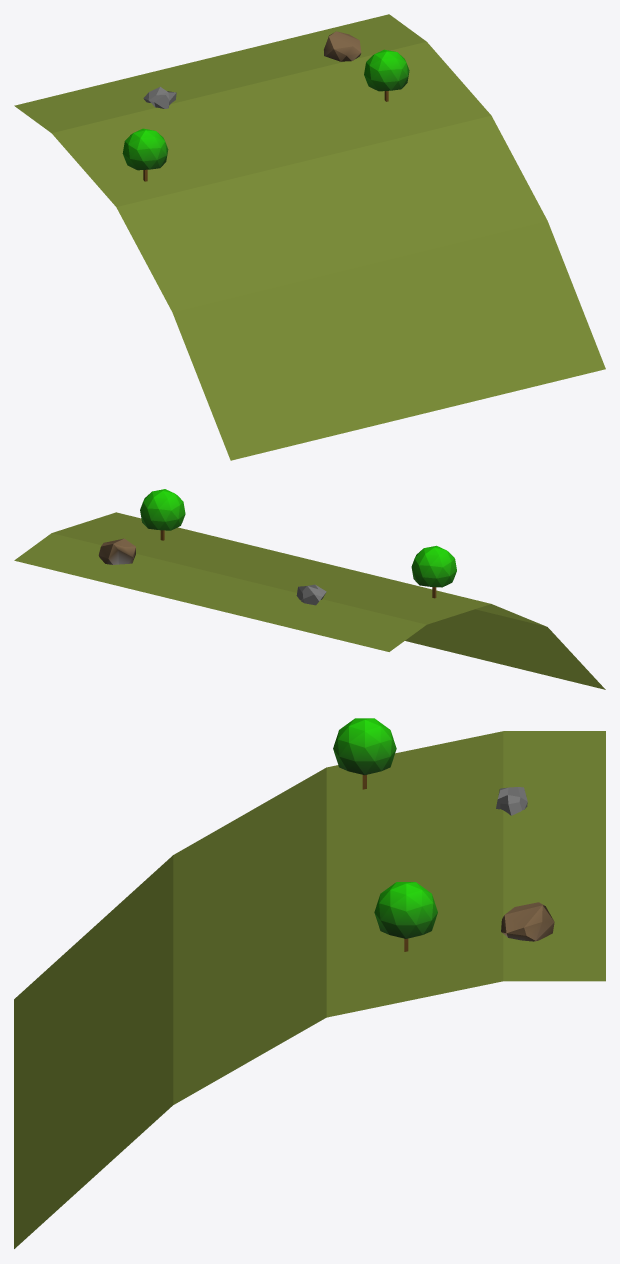
The model's file is hill.gltf.
3 renders of one model, top to bottom at view 1: azimuth 30°, elevation 25°; view 2: azimuth 150°, elevation 25°; view 3: azimuth 270°, elevation 25°, orthographic. The views are drawn at different scales.
Parts seen in each view (by area): view 1: hill; view 2: hill; view 3: hill.
Part boxes in pixels (bbox=[...]): hill: bbox=[14, 14, 605, 460]; hill: bbox=[14, 489, 605, 689]; hill: bbox=[14, 718, 605, 1248].
Bounding box in the file's own units: 4 × 2.35 × 4.
